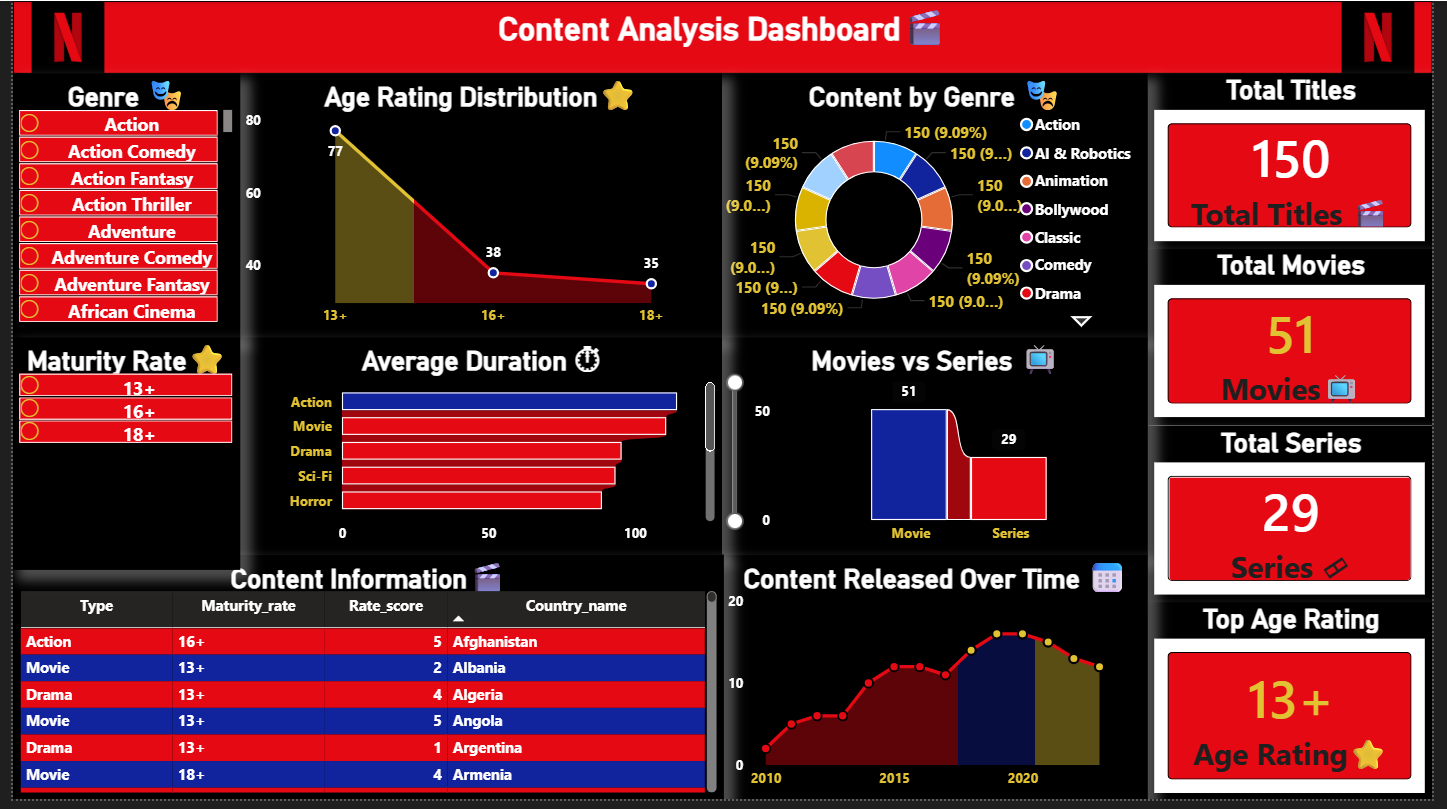

The page's visual inventory and layout, read from the dashboard file:
{"tool":"powerbi","page":{"name":"Content Insights & Distribution","canvas":[1280,720],"ordinal":1},"visuals":[{"type":"textbox","title":"Content Analysis Dashboard🎬","box":[0,0,1280.3,65.9],"z":0},{"type":"image","box":[0,0,98.8,65.9],"z":1000},{"type":"image","box":[1181.5,0,98.8,65.9],"z":2000},{"type":"cardVisual","title":"Total Titles ","fields":{"Data":["CountNonNull(Content.Content_id)"]},"box":[1023.7,65.9,256.6,157.8],"z":3000},{"type":"cardVisual","title":"Total Movies","fields":{"Data":["select","Content.Total Movies"]},"box":[1023.7,223.7,256.6,159.2],"z":4000},{"type":"cardVisual","title":"Total Series ","fields":{"Data":["Content.Total Series"]},"box":[1023.7,382.8,256.6,159.2],"z":5000},{"type":"cardVisual","title":"Top Age Rating","fields":{"Data":["Min(Content.Maturity_rate)"]},"box":[1023.7,542,256.6,178.4],"z":6000},{"type":"donutChart","title":"Content by Genre 🎭","fields":{"Category":["Genre_Types.Genre_name"],"Y":["CountNonNull(Content.Content_id)"]},"box":[639.5,65.9,384.2,237.4],"z":7000},{"type":"columnChart","title":"Movies vs Series 📺","fields":{"Category":["Content.Type"],"Y":["CountNonNull(Content.Content_id)"]},"box":[639.5,303.3,384.2,196.2],"z":8000},{"type":"lineChart","title":"Content Released Over Time 📅","fields":{"Category":["Content.Release_year"],"Y":["CountNonNull(Content.Content_id)"]},"box":[639.5,499.5,384.2,220.9],"z":9000},{"type":"areaChart","title":"Age Rating Distribution⭐","fields":{"Category":["Content.Maturity_rate"],"Y":["CountNonNull(Content.Content_id)"]},"box":[204.5,65.9,435,237.4],"z":10000},{"type":"barChart","title":"Average Duration ⏱","fields":{"Category":["Content.Type"],"Y":["Avg(Content.Duration_minutes)"]},"box":[204.5,303.3,435,196.2],"z":11000},{"type":"tableEx","title":"Content Information🎬","fields":{"Values":["Content.Type","Content.Maturity_rate","Rating.Rate_score","Country.Country_name"]},"box":[0,499.5,640.8,220.9],"z":12000},{"type":"listSlicer","title":"Genre 🎭","fields":{"Values":["Genre_Types.Genre_name"]},"box":[0,65.9,204.5,237.4],"z":13000},{"type":"listSlicer","title":"Maturity Rate⭐","fields":{"Values":["Content.Maturity_rate"]},"box":[0,303.3,204.5,209.9],"z":14000}]}

Visuals, with their boxes in screenshot pixels (x1, y1, x2, y2), scaled from the page's 1280x720 canvas onto the 1447x809 screenshot:
"Content Analysis Dashboard🎬" textbox: rect(0, 0, 1446, 74)
image: rect(0, 0, 112, 74)
image: rect(1336, 0, 1446, 74)
"Total Titles " cardVisual: rect(1157, 74, 1446, 251)
"Total Movies" cardVisual: rect(1157, 251, 1446, 430)
"Total Series " cardVisual: rect(1157, 430, 1446, 609)
"Top Age Rating" cardVisual: rect(1157, 609, 1446, 808)
"Content by Genre 🎭" donutChart: rect(723, 74, 1157, 341)
"Movies vs Series 📺" columnChart: rect(723, 341, 1157, 561)
"Content Released Over Time 📅" lineChart: rect(723, 561, 1157, 808)
"Age Rating Distribution⭐" areaChart: rect(231, 74, 723, 341)
"Average Duration ⏱" barChart: rect(231, 341, 723, 561)
"Content Information🎬" tableEx: rect(0, 561, 724, 808)
"Genre 🎭" listSlicer: rect(0, 74, 231, 341)
"Maturity Rate⭐" listSlicer: rect(0, 341, 231, 577)
